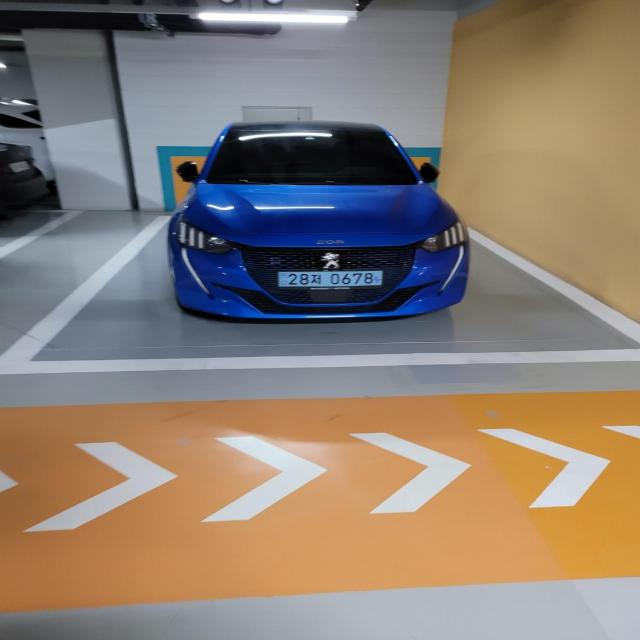EV_plate: (271, 266, 386, 295)
car: (160, 114, 470, 325)
